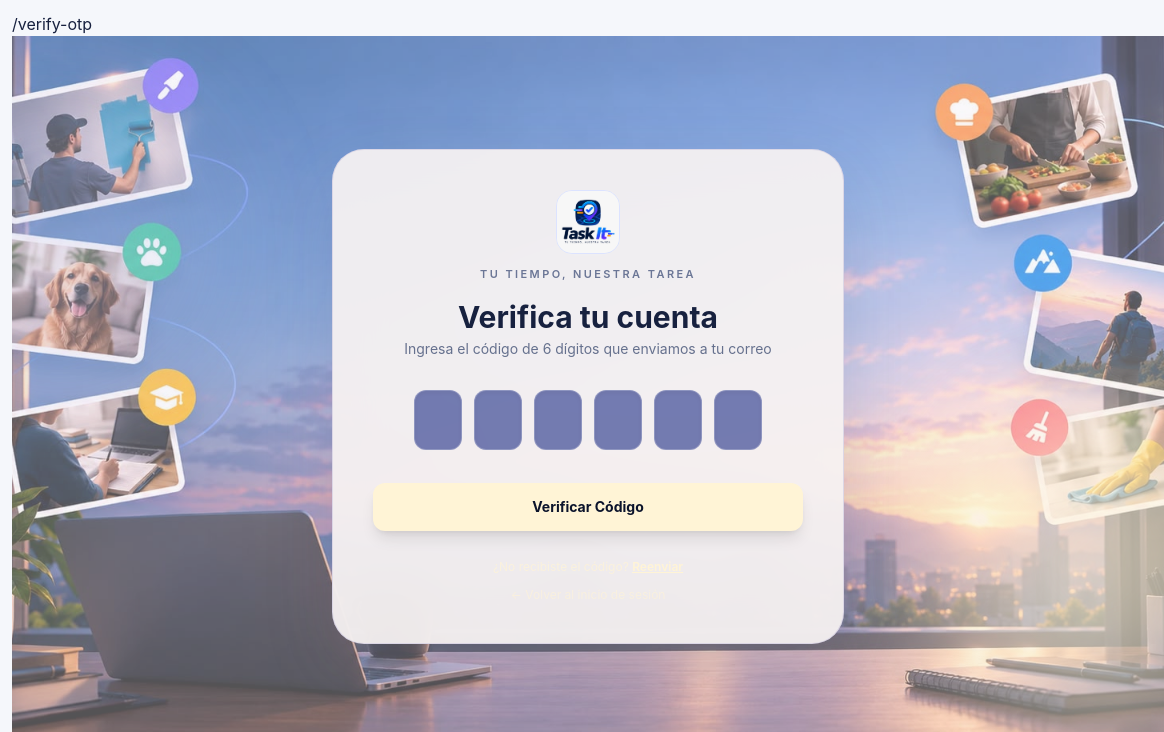
Test: OtpVerificationPage › sin correo guardado pide registrarse de nuevo
Click the 1st field.
click(438, 420)  # box [414,390,462,450]
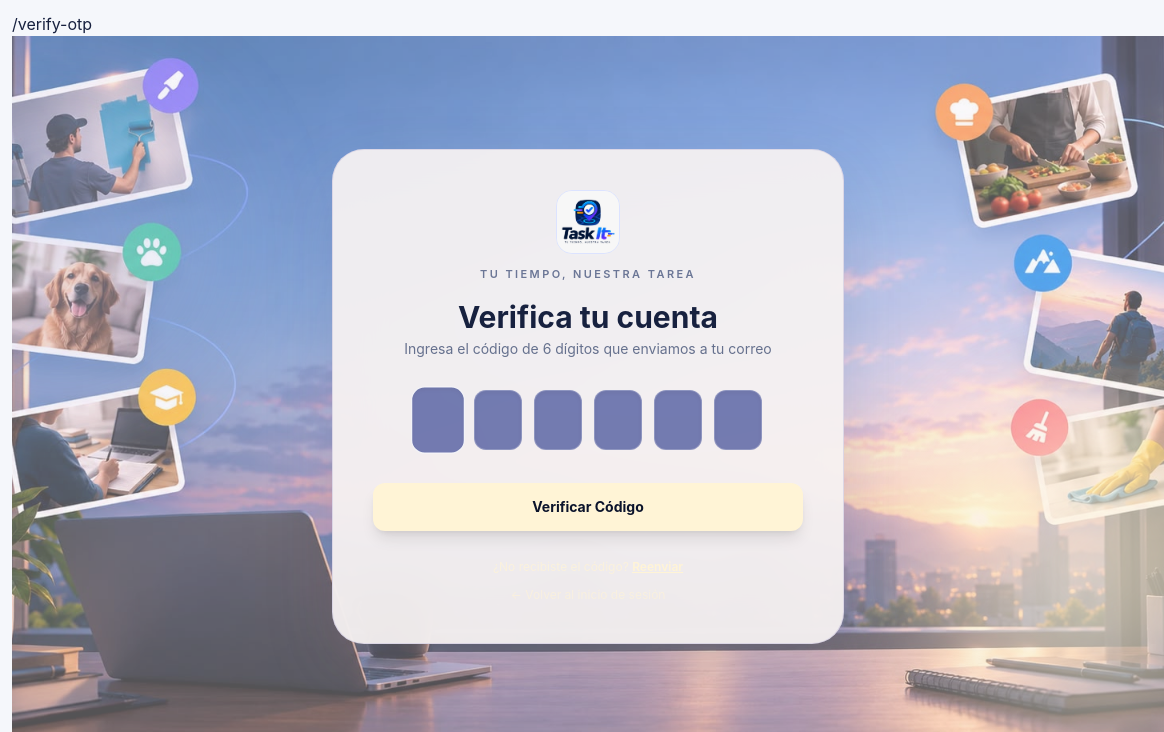
Type keys "123456"
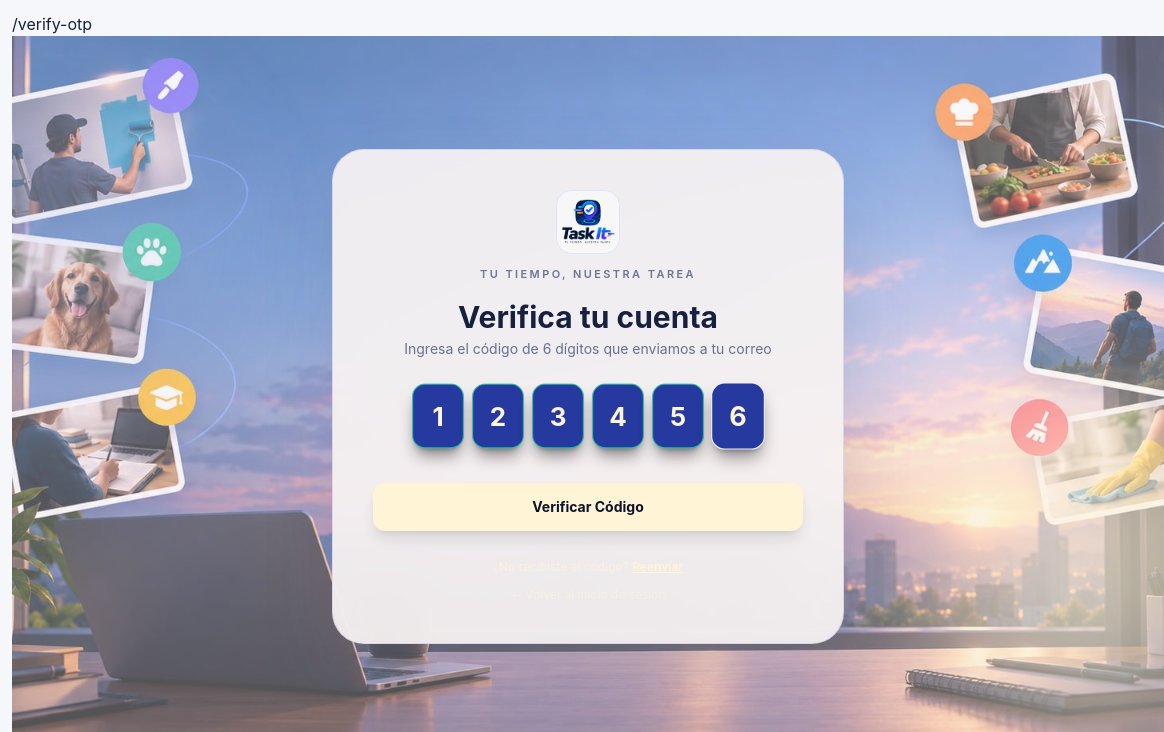
Click the button "Verificar Código".
click(588, 506)  # box [373,482,803,530]
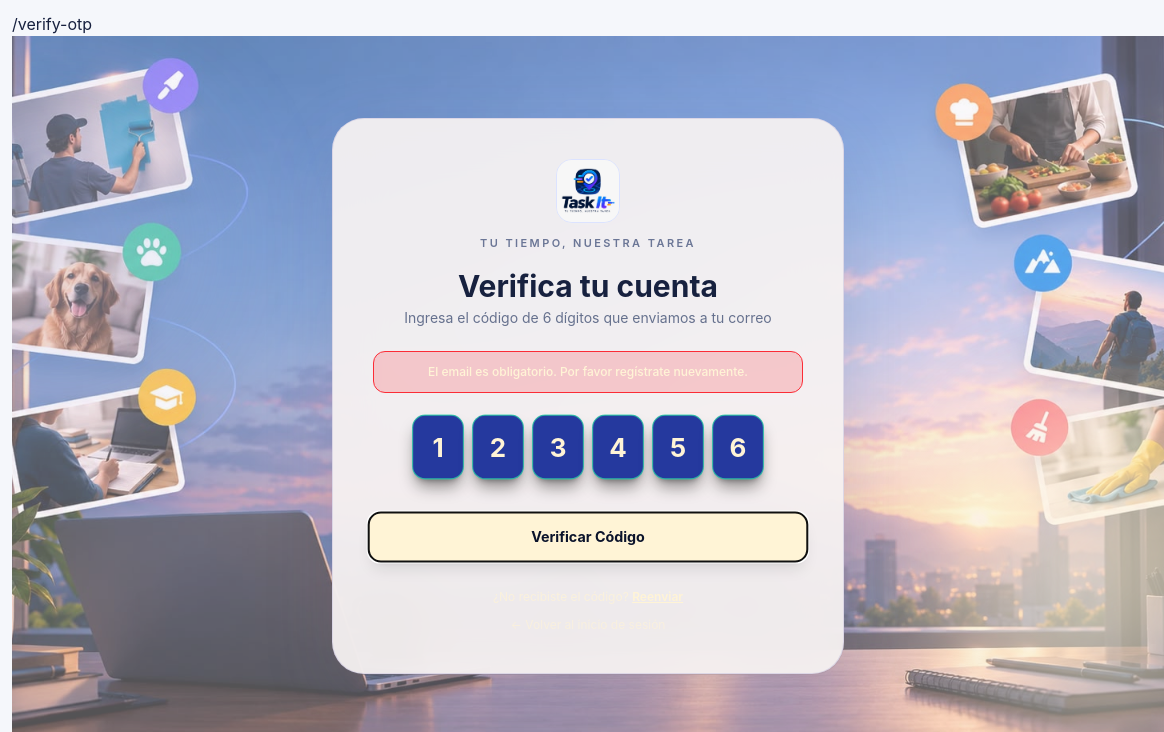
Expected: the text "El email es obligatorio. Por favor regístrate nuevamente." is shown, [373,351,803,393]
